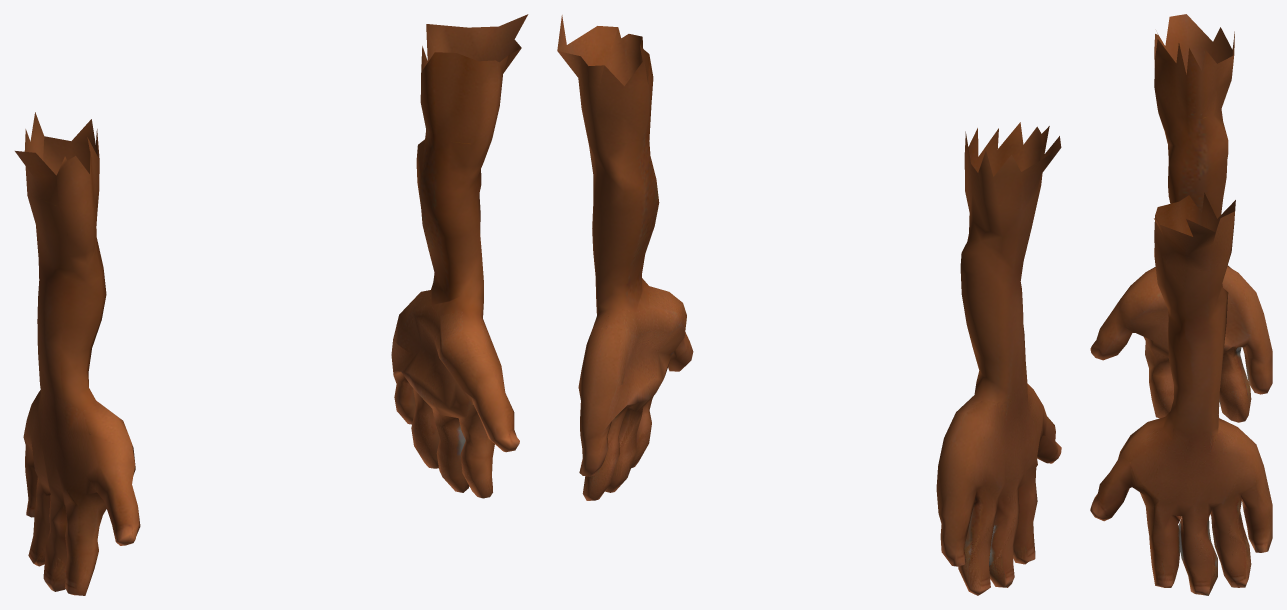
The model's file is ananse_extra_arms.glb.
The picture shows the model from 3 angles, left to right: view 1: azimuth 30°, elevation 25°; view 2: azimuth 150°, elevation 25°; view 3: azimuth 270°, elevation 25°; orthographic projection. The views are drawn at different scales.
Visible parts, largest first — view 1: ananse_extra_arms; view 2: ananse_extra_arms; view 3: ananse_extra_arms.
Part boxes in pixels (left/top/right/bottom): ananse_extra_arms: left=15, top=14, right=528, bottom=595; ananse_extra_arms: left=557, top=15, right=1061, bottom=595; ananse_extra_arms: left=1090, top=14, right=1272, bottom=595.
Bounding box in the file's own units: 0.4411 × 0.3848 × 0.1582.
1 material, 1 textured.
